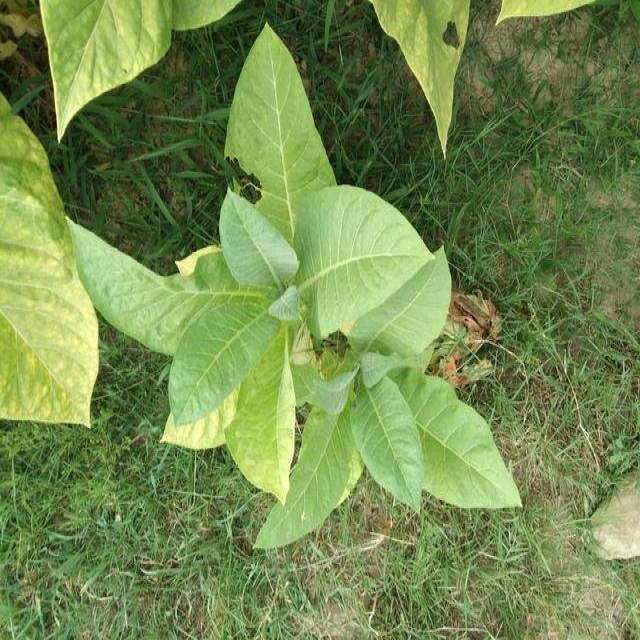crop: (146, 20, 533, 529)
